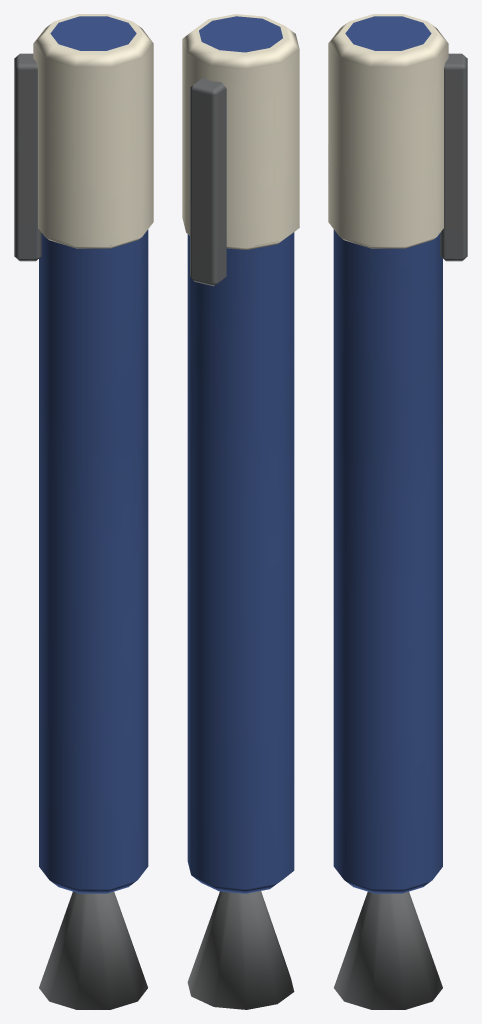
Rendered from Inspect_Pen.fbx.
The picture shows the model from 3 angles, left to right: view 1: azimuth 90°, elevation 25°; view 2: azimuth 150°, elevation 25°; view 3: azimuth 270°, elevation 25°; orthographic projection.
Parts seen in each view (by area): view 1: Inspect_Pen; view 2: Inspect_Pen; view 3: Inspect_Pen.
Part boxes in pixels (x1=…): Inspect_Pen: x1=14, y1=14, x2=153, y2=1009; Inspect_Pen: x1=182, y1=14, x2=299, y2=1009; Inspect_Pen: x1=328, y1=14, x2=467, y2=1009.
Bounding box in the file's own units: 0.0209 × 0.1925 × 0.0255.
1 material, 1 textured.
